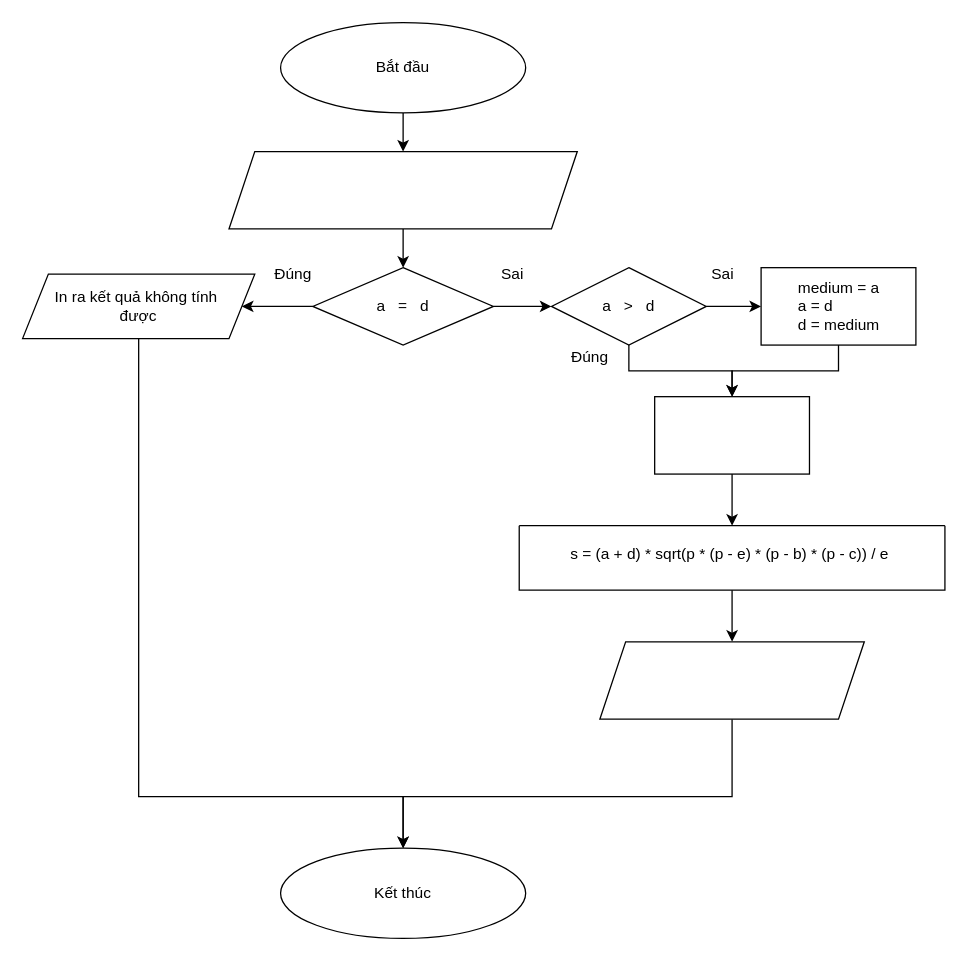
This 968x961 diagram has some shape labels left out. The box of each missing label's shape, as (x1, y1, x2, y2) in pixels:
e = a - d p = ( b + c + e ) /2: (653, 395, 809, 474)
In ra diện tích hình thang s: (599, 640, 864, 719)
Nhập a, b, c, d: (228, 150, 577, 229)
